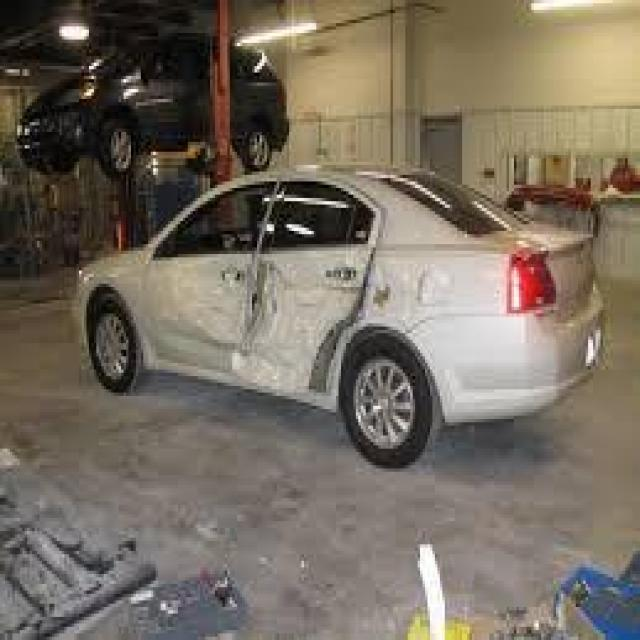damaged: (218, 238, 374, 406)
